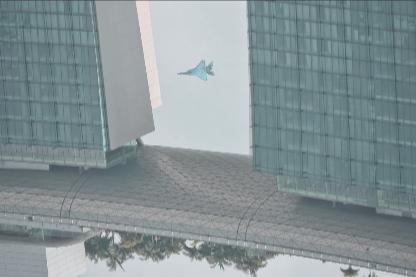F117: (177, 60, 215, 82)
